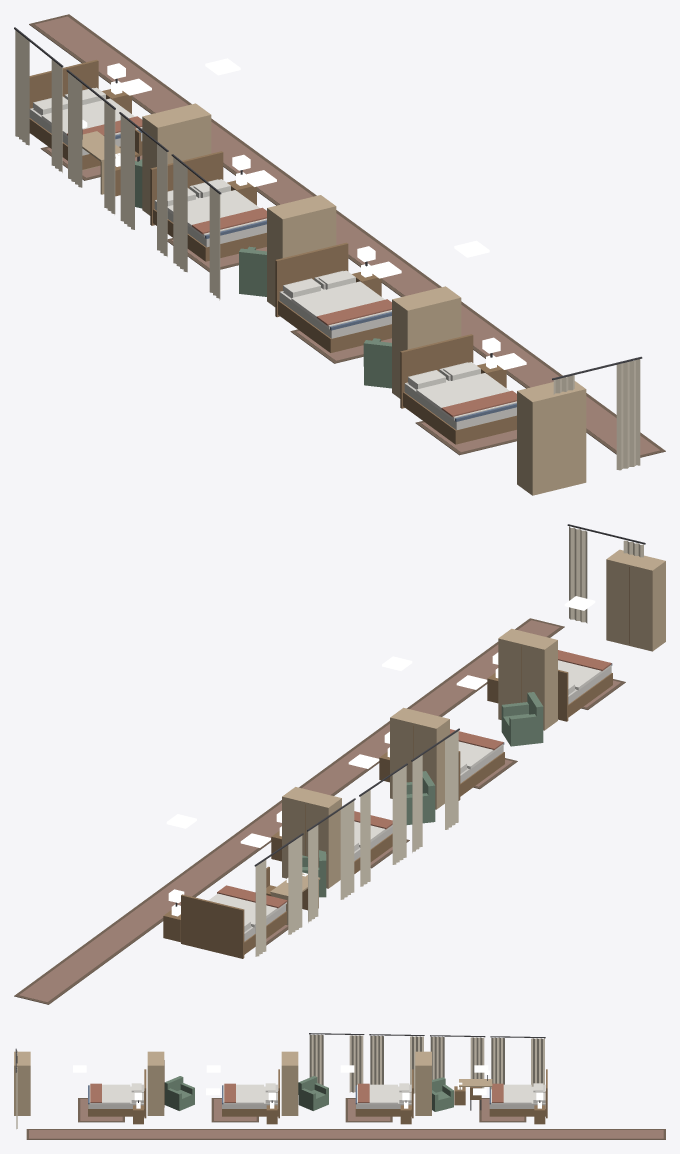
The model's file is fine-s1.glb.
3 renders of one model, top to bottom at view 1: azimuth 30°, elevation 25°; view 2: azimuth 150°, elevation 25°; view 3: azimuth 270°, elevation 25°, orthographic. The views are drawn at different scales.
Visible parts, largest first — view 1: soft-s1, dresser.003, bed-frame.003, bed-frame.002, dresser.002, dresser.001, dresser.000, bed-frame.001, bed-frame.000, lounge-chair.002, lounge-chair.001, writing-desk.000; view 2: soft-s1, dresser.003, dresser.002, bed-frame.000, dresser.000, dresser.001, lounge-chair.002, bed-frame.003, bed-frame.002, lounge-chair.001; view 3: soft-s1, dresser.001, dresser.002, dresser.000, dresser.003, bed-frame.003, lounge-chair.001, lounge-chair.002, bed-frame.001, bed-frame.000, bed-frame.002, lounge-chair.000 (+6 smaller).
Part boxes in pixels (bbox=[...]): soft-s1: bbox=[14, 14, 665, 470]; dresser.003: bbox=[517, 381, 586, 495]; bed-frame.003: bbox=[400, 334, 516, 444]; bed-frame.002: bbox=[275, 242, 391, 352]; dresser.002: bbox=[392, 286, 461, 398]; dresser.001: bbox=[267, 195, 336, 306]; dresser.000: bbox=[142, 103, 211, 215]; bed-frame.001: bbox=[150, 151, 266, 261]; bed-frame.000: bbox=[29, 59, 142, 169]; lounge-chair.002: bbox=[363, 338, 391, 388]; lounge-chair.001: bbox=[239, 246, 266, 296]; writing-desk.000: bbox=[82, 120, 120, 194]; soft-s1: bbox=[14, 524, 645, 1004]; dresser.003: bbox=[606, 549, 665, 651]; dresser.002: bbox=[498, 628, 557, 730]; bed-frame.000: bbox=[181, 894, 286, 958]; dresser.000: bbox=[282, 787, 341, 888]; dresser.001: bbox=[390, 707, 449, 809]; lounge-chair.002: bbox=[501, 692, 543, 746]; bed-frame.003: bbox=[558, 663, 612, 721]; bed-frame.002: bbox=[458, 742, 504, 800]; lounge-chair.001: bbox=[406, 771, 435, 824]; soft-s1: bbox=[15, 1033, 665, 1139]; dresser.001: bbox=[281, 1051, 298, 1115]; dresser.002: bbox=[147, 1051, 164, 1115]; dresser.000: bbox=[415, 1051, 431, 1115]; dresser.003: bbox=[14, 1051, 30, 1115]; bed-frame.003: bbox=[88, 1069, 146, 1118]; lounge-chair.001: bbox=[298, 1076, 328, 1110]; lounge-chair.002: bbox=[164, 1076, 194, 1110]; bed-frame.001: bbox=[355, 1069, 413, 1118]; bed-frame.000: bbox=[489, 1069, 547, 1118]; bed-frame.002: bbox=[222, 1069, 279, 1118]; lounge-chair.000: bbox=[432, 1077, 453, 1111].
Size of the model in its own units: 4.08 by 2.36 by 23.58.
